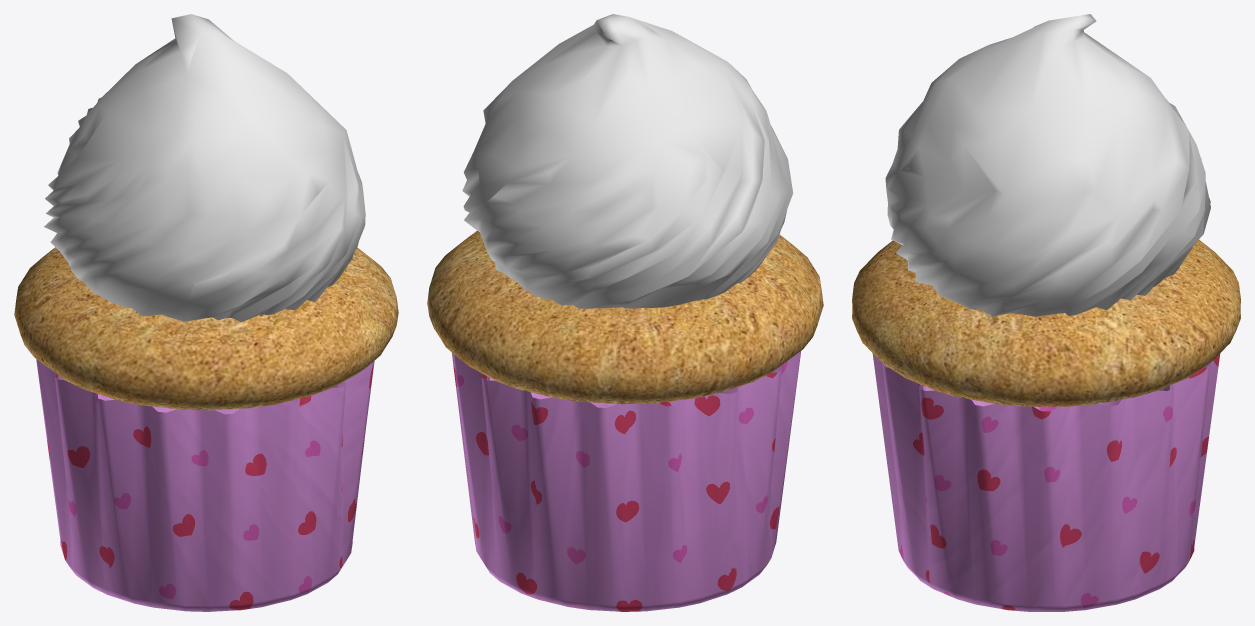
Rendered from Cupcake.fbx.
3 renders of one model, left to right at view 1: azimuth 30°, elevation 25°; view 2: azimuth 150°, elevation 25°; view 3: azimuth 270°, elevation 25°, orthographic. The views are drawn at different scales.
Visible parts, largest first — view 1: Puff Lo, Wrapper, Cake; view 2: Puff Lo, Wrapper, Cake; view 3: Puff Lo, Wrapper, Cake.
Part boxes in pixels (left/top/right/bottom): Puff Lo: left=44, top=14, right=365, bottom=321; Wrapper: left=36, top=359, right=374, bottom=611; Cake: left=14, top=247, right=398, bottom=410; Puff Lo: left=462, top=14, right=793, bottom=308; Wrapper: left=451, top=351, right=800, bottom=611; Cake: left=427, top=230, right=823, bottom=404; Puff Lo: left=885, top=14, right=1210, bottom=316; Wrapper: left=872, top=353, right=1220, bottom=611; Cake: left=852, top=240, right=1240, bottom=406.
Bounding box in the file's own units: 219 × 336 × 219.
